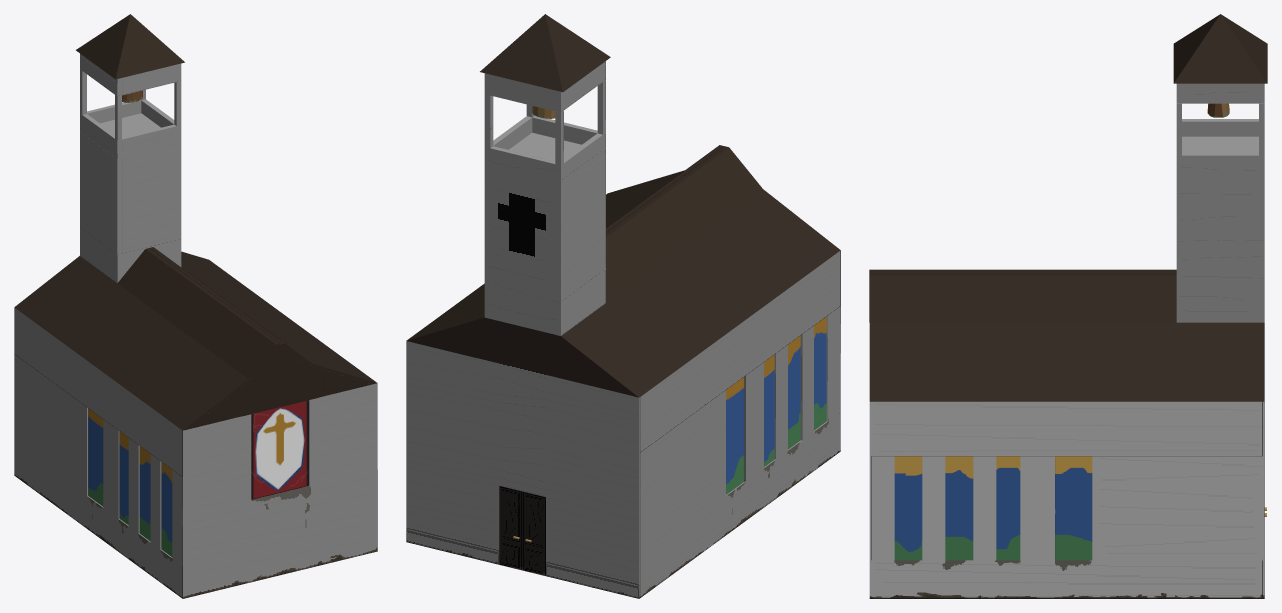
File: chapel.gltf
The picture shows the model from 3 angles, left to right: view 1: azimuth 30°, elevation 25°; view 2: azimuth 150°, elevation 25°; view 3: azimuth 270°, elevation 25°; orthographic projection. The views are drawn at different scales.
Parts seen in each view (by area): view 1: cube (×10), roof, steeple, rear_window, plane (×4), pyramid, chapel_walls, group; view 2: cube (×9), roof, steeple, chapel_walls, plane (×4), pyramid, group, panel_r, panel_left; view 3: cube (×7), roof, steeple, plane (×4), pyramid.
Part boxes in pixels (x1,y1,x2,y2): cube (×10): (15, 308, 377, 598); roof: (14, 247, 377, 430); steeple: (80, 53, 181, 282); rear_window: (251, 400, 308, 499); plane (×4): (88, 408, 172, 556); pyramid: (76, 14, 184, 79); chapel_walls: (241, 344, 319, 416); group: (187, 368, 373, 429); cube (×9): (406, 251, 840, 598); roof: (406, 145, 840, 397); steeple: (484, 61, 605, 335); chapel_walls: (476, 318, 569, 496); plane (×4): (726, 316, 826, 494); pyramid: (480, 14, 610, 92); group: (411, 322, 633, 396); panel_r: (522, 491, 545, 575); panel_left: (499, 486, 522, 570); cube (×7): (871, 401, 1262, 598); roof: (869, 269, 1264, 401); steeple: (1176, 83, 1264, 322); plane (×4): (894, 456, 1092, 560); pyramid: (1173, 14, 1267, 83).
Size of the model in its own units: 6.49 by 14.37 by 9.8.
Materials: 10 (10 with a texture image).
